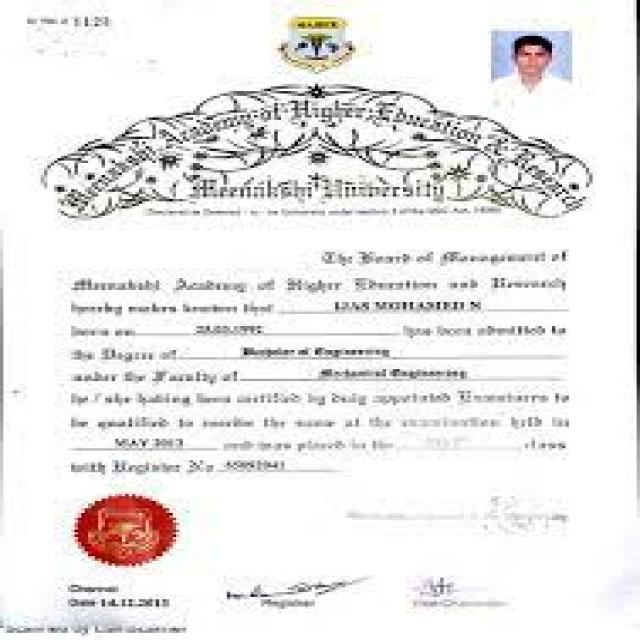signature: (222, 571, 376, 614), (416, 575, 504, 615)
stamp: (68, 490, 188, 571)
